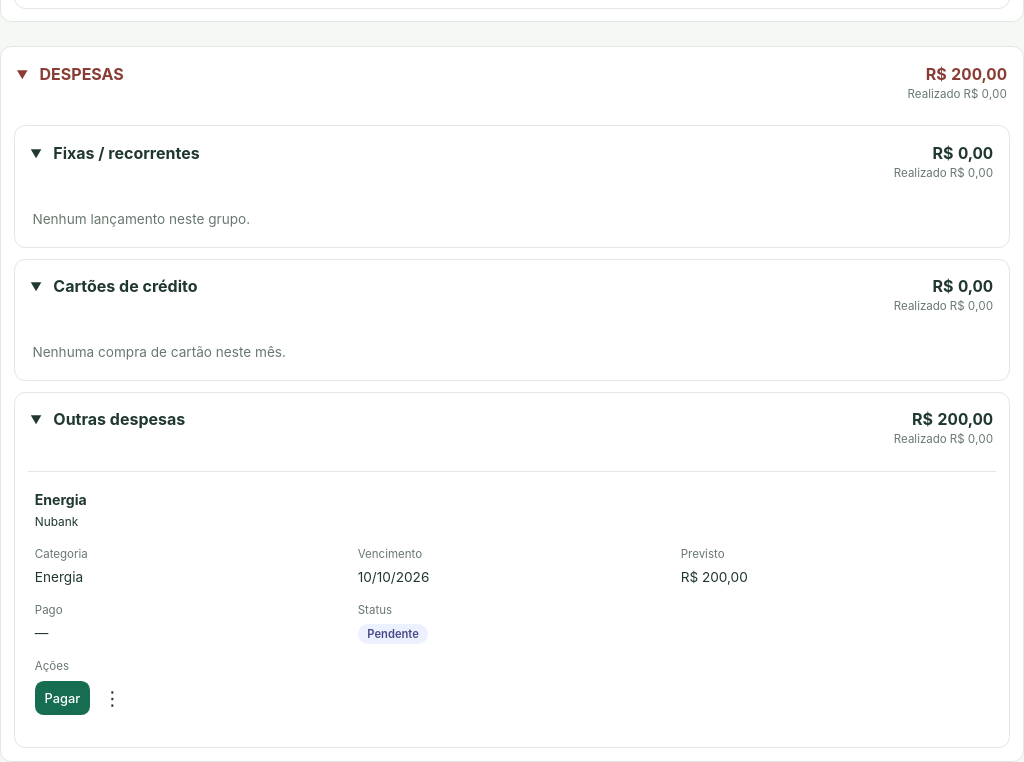
Scenario: Lançamentos › cancelamento exige confirmação e preserva registro
(page scrolled)
Click the heading named "Ações de Energia": (112, 698) [103,686,122,710]
(page scrolled)
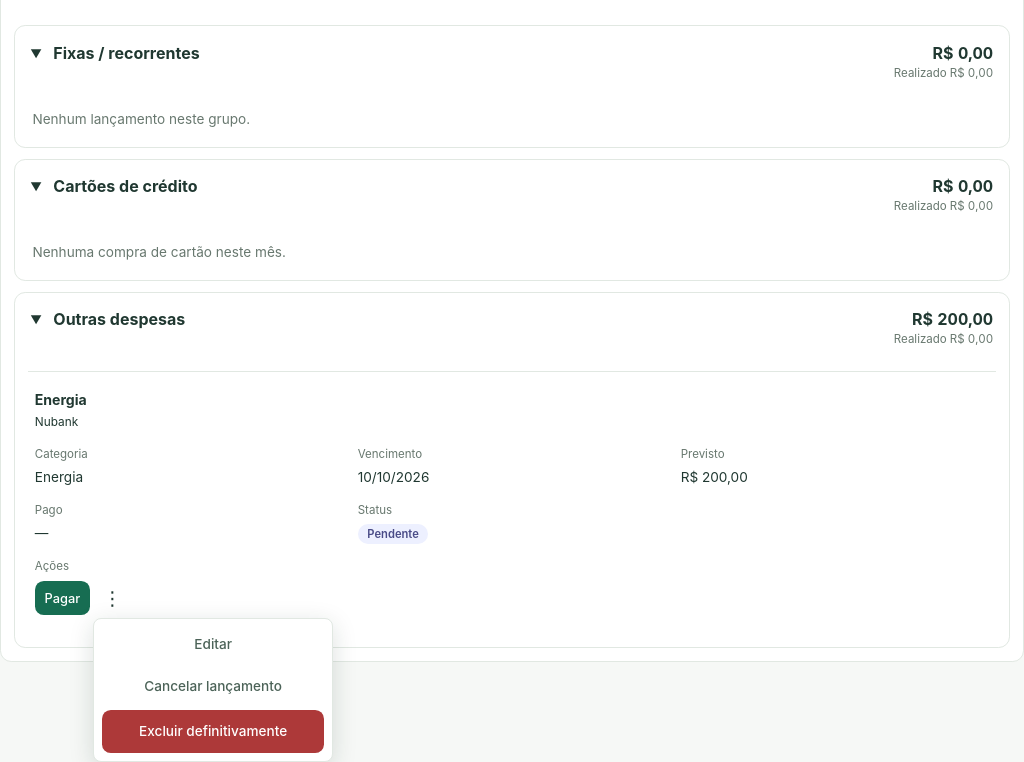
Click the button "Cancelar lançamento": (213, 686) [102,668,324,703]
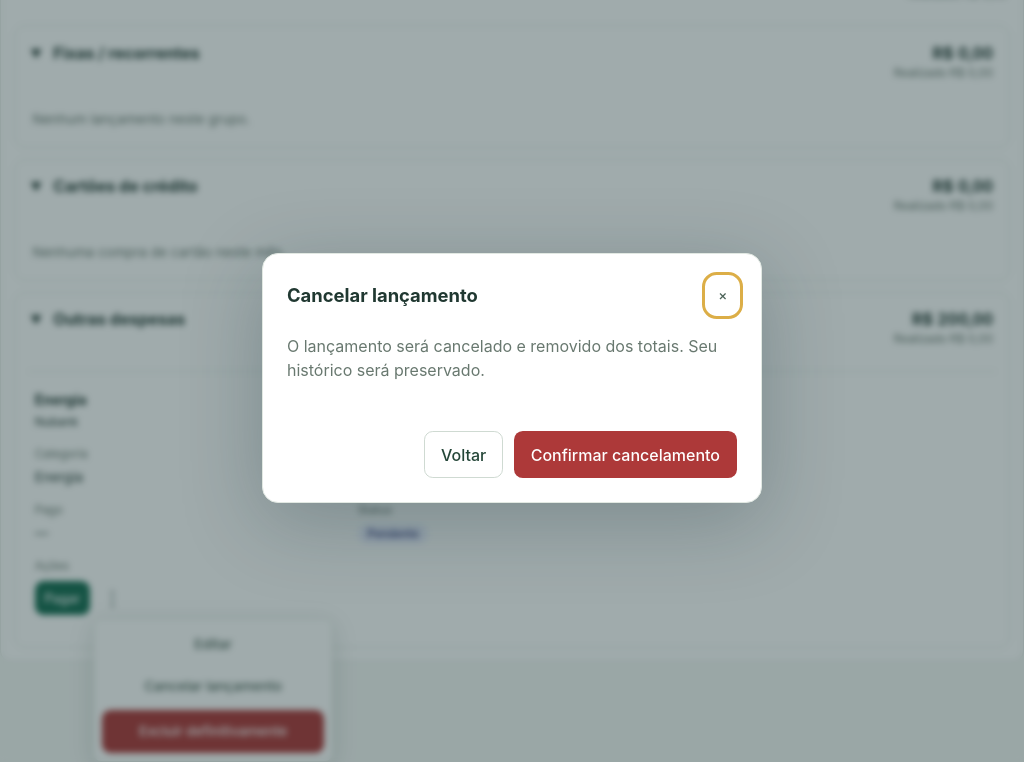
Click the button "Confirmar cancelamento": (625, 455) [514,431,737,478]
(page scrolled)
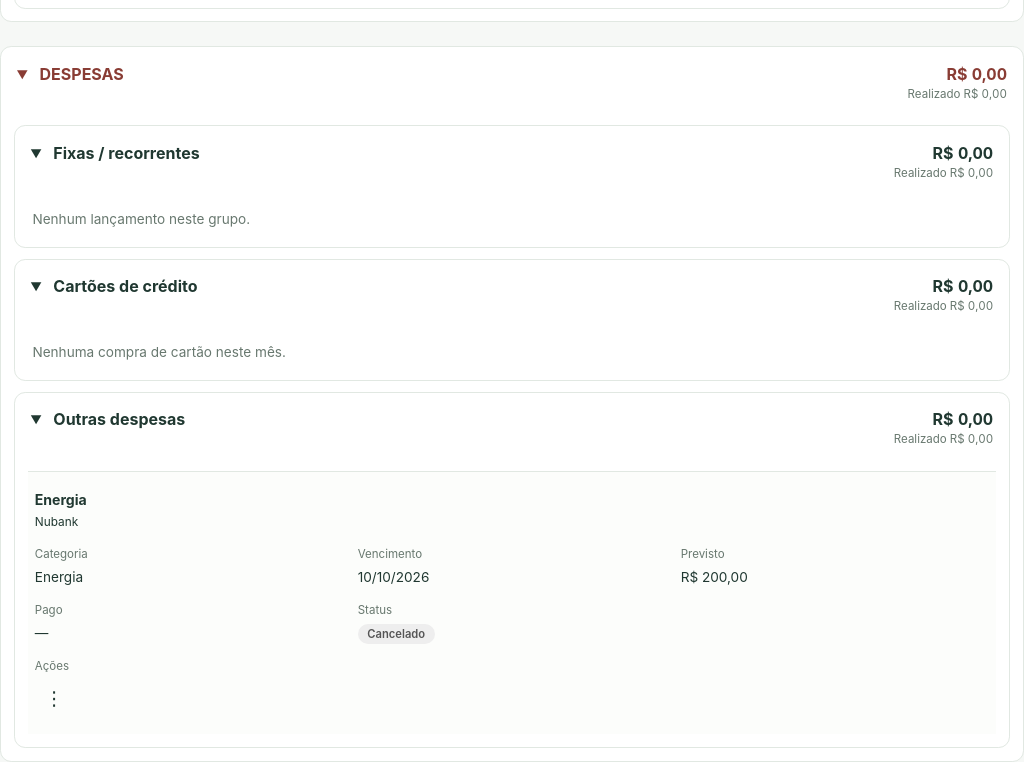
expect the heading "Energia" is shown: met, box [35,491,87,508]
expect the dialog is gone: met
expect the button "Pagar" is gone: met
